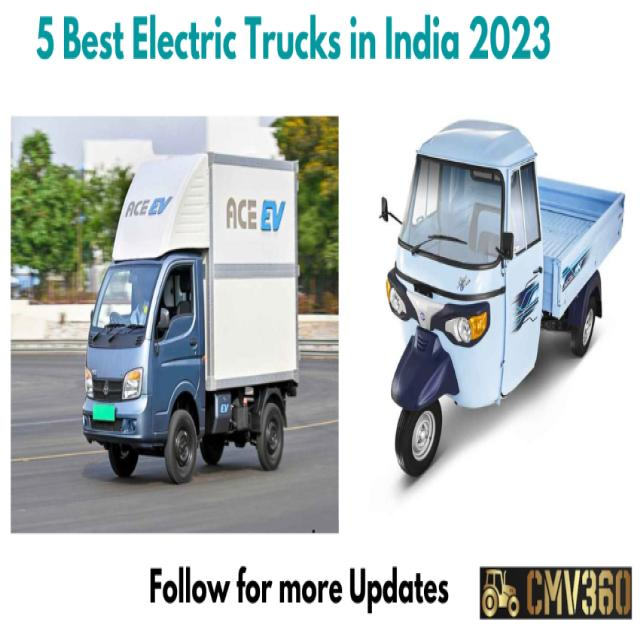autorickshaw: (388, 120, 624, 475)
truck: (82, 153, 299, 481)
